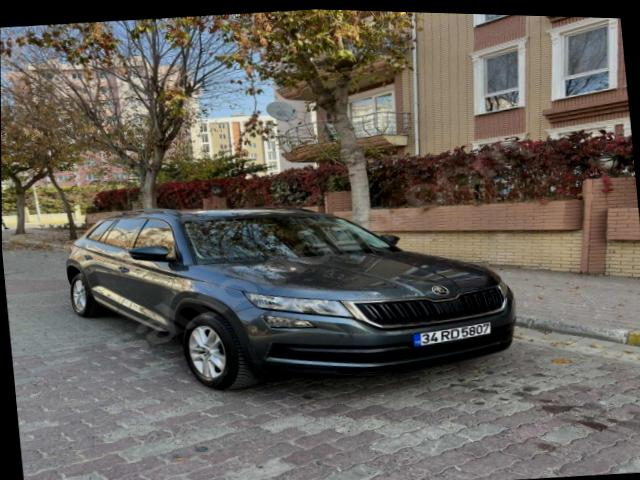plaka: (412, 323, 490, 345)
